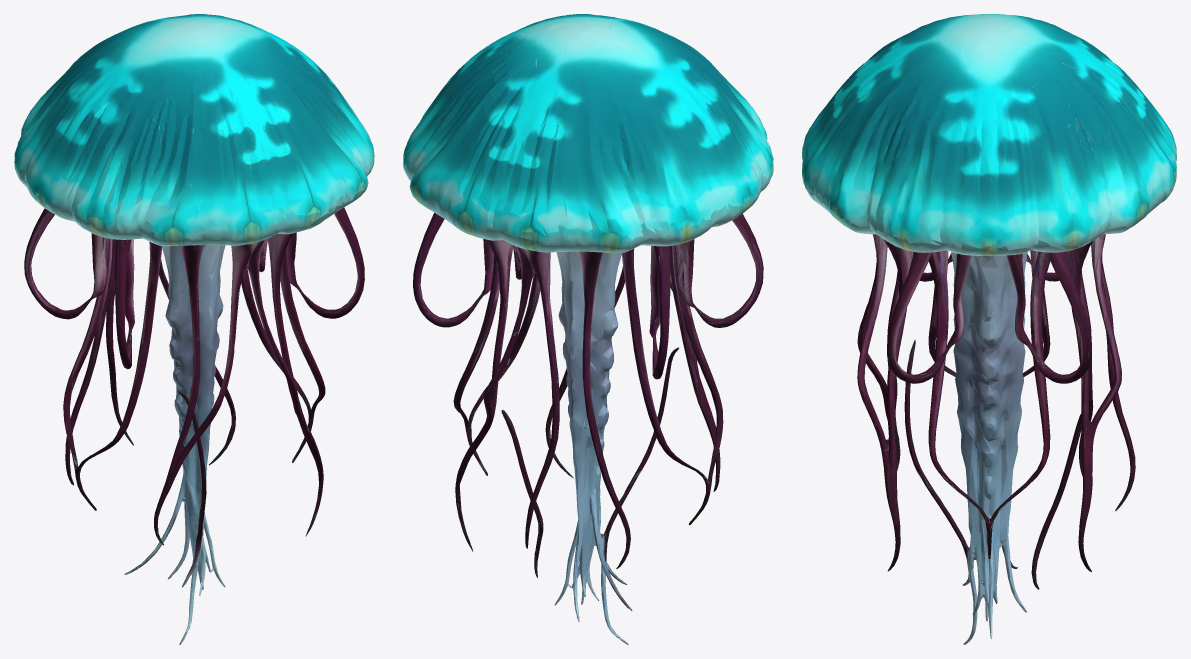
Rendered from jelly_drifter.glb.
3 views of the same model, side by side, from view 1: azimuth 30°, elevation 25°; view 2: azimuth 150°, elevation 25°; view 3: azimuth 270°, elevation 25° (orthographic). The views are drawn at different scales.
Bounding box in the file's own units: 1.04 × 1.9 × 1.03.
Materials: 1 (1 with a texture image).
